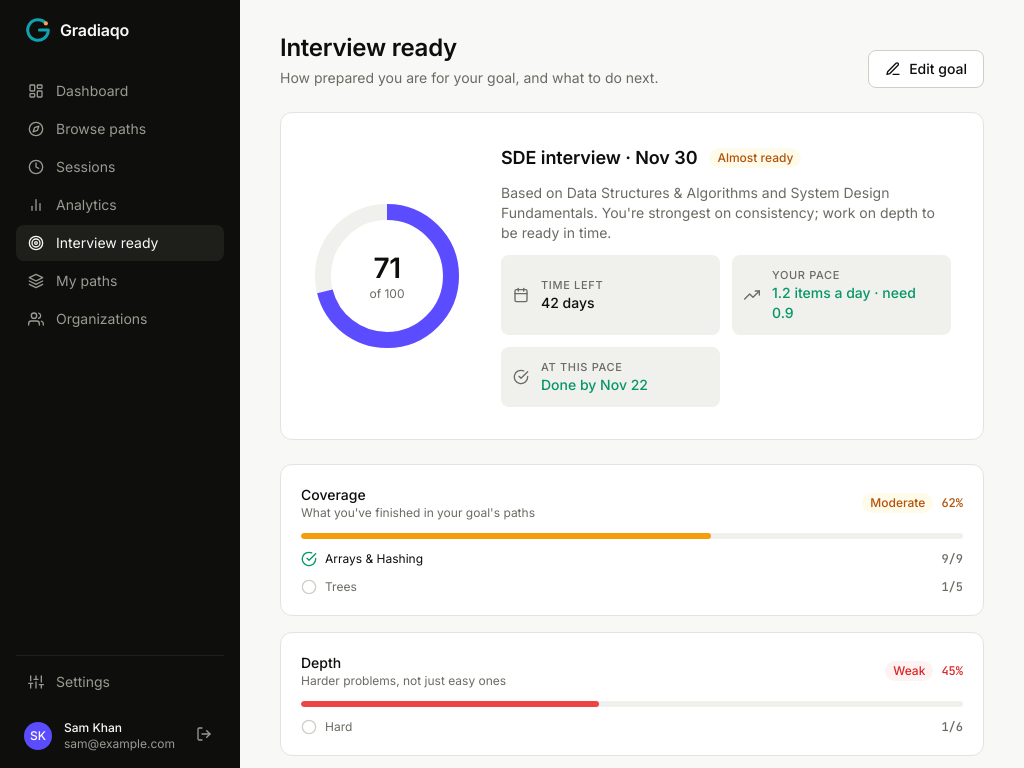
it: ReadinessPage › edits the goal, starting from what it is now
Click the button "Edit goal" at (926, 69), box [868,50,984,88]
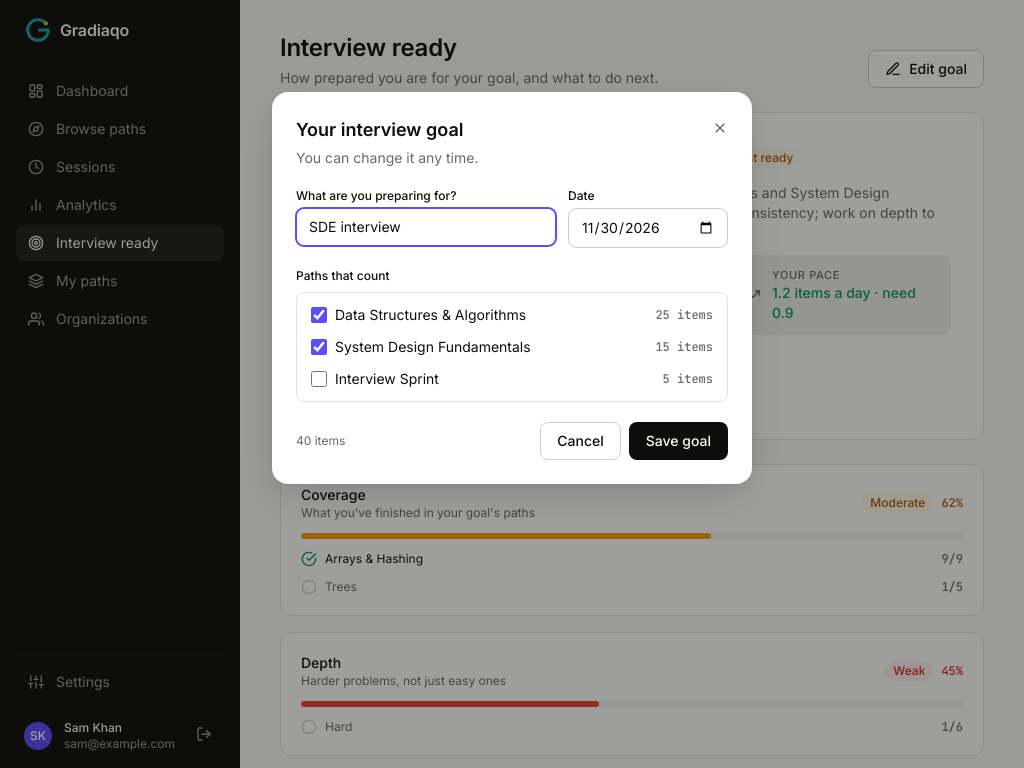
Check: the field labelled "What are you preparing for?" holds "SDE interview", box [296,208,556,246]
Check: the date field labelled "Date" holds "2026-11-30", box [568,208,728,248]
Check: the dialog "Your interview goal" shows "40 items", box [296,433,345,448]
Click the button "Save goal" at (678, 441), box [629,422,728,460]
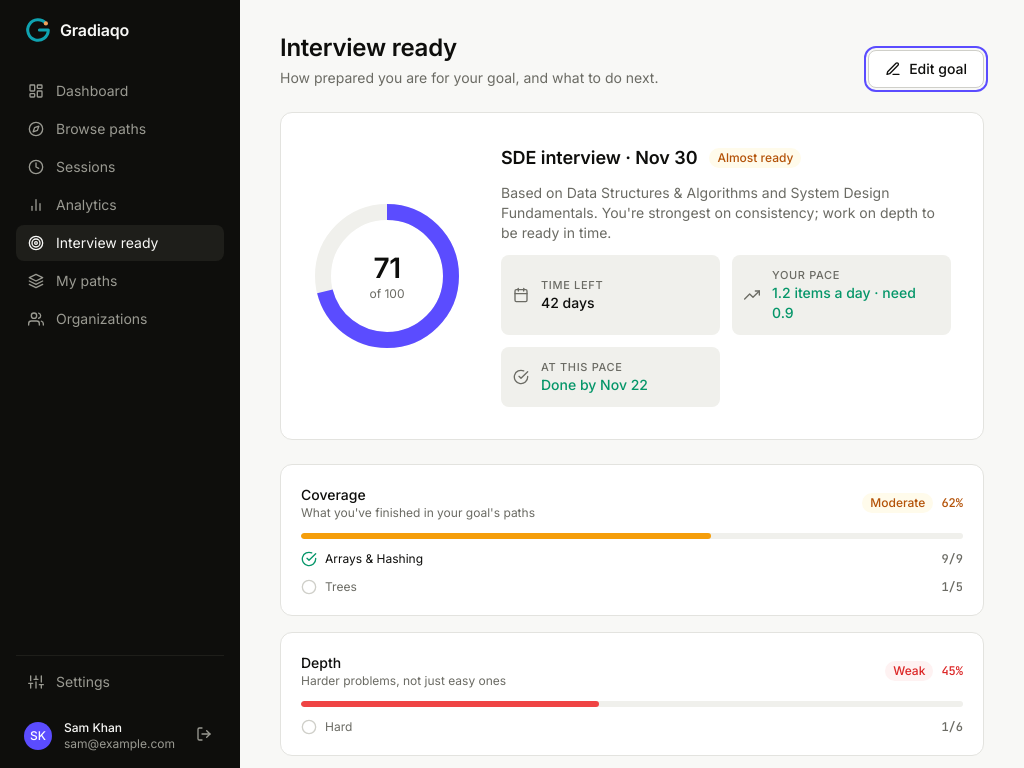
Check: the dialog is gone
